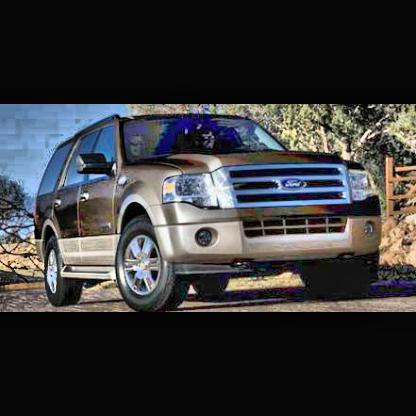Ford Expedition EL SUV 2009: (30, 112, 392, 312)
